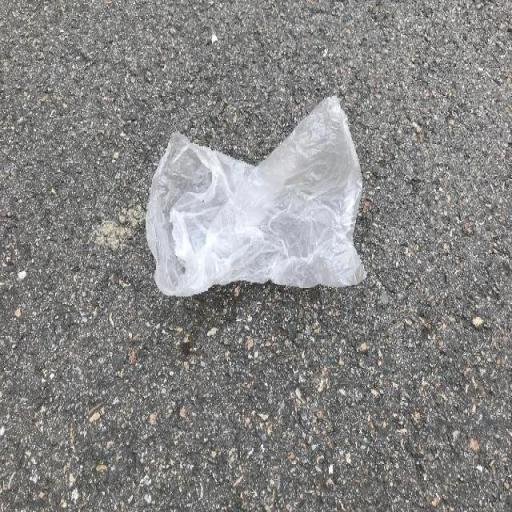plastic-bag: (142, 89, 370, 301)
